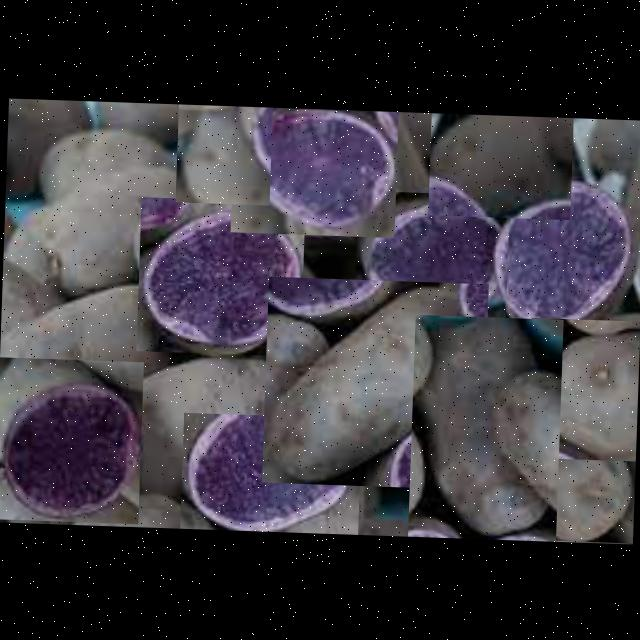Damaged potato: (260, 275, 488, 489), (407, 314, 562, 540), (93, 355, 300, 479), (0, 285, 184, 405), (30, 162, 192, 294), (525, 316, 640, 460), (427, 112, 572, 218), (25, 123, 188, 206), (532, 443, 636, 542), (175, 103, 272, 204)
Defected potato: (135, 196, 304, 356), (486, 174, 634, 342), (0, 356, 142, 523), (178, 412, 360, 534), (229, 105, 397, 236), (352, 190, 508, 328)
